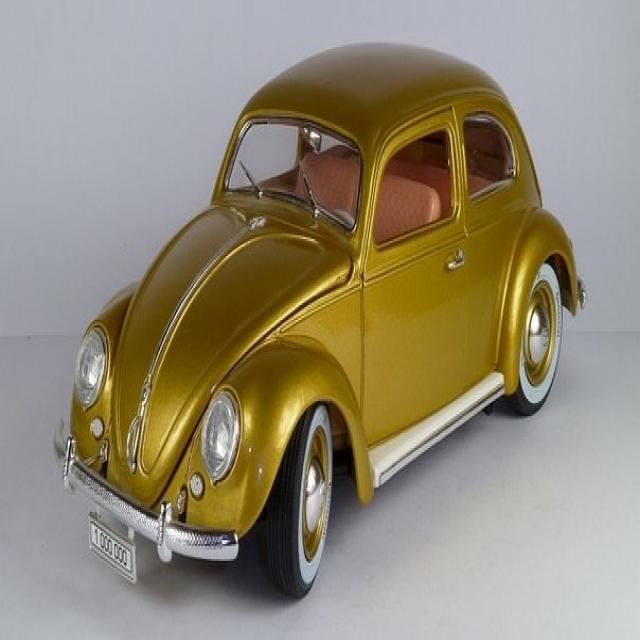cars: (58, 43, 577, 559)
